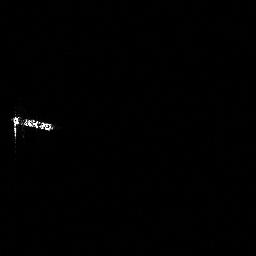ship: (8, 111, 56, 151)
